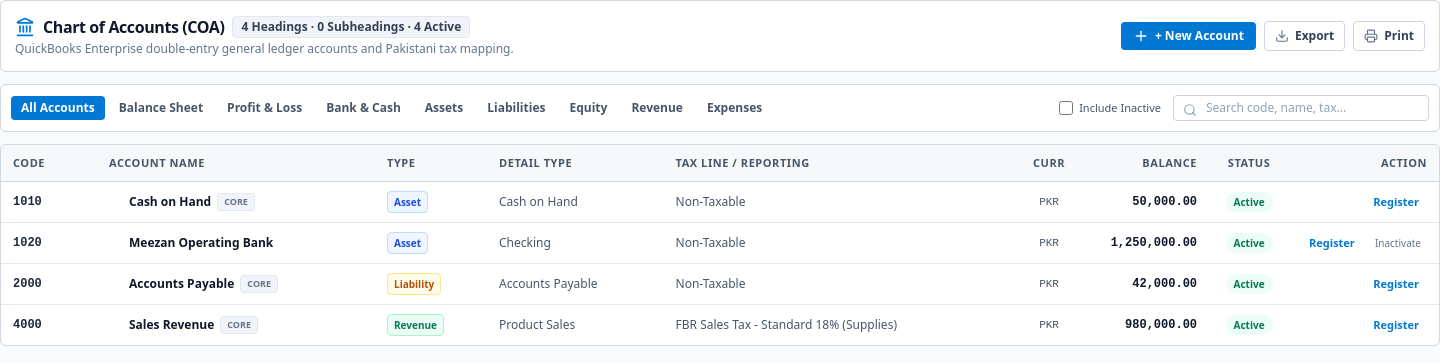
Test: Chart of Accounts Client & Register › filters accounts by category tab (Balance Sheet vs Profit & Loss)
Click the button "Profit & Loss" at [265, 108], box 217,96 -> 312,120
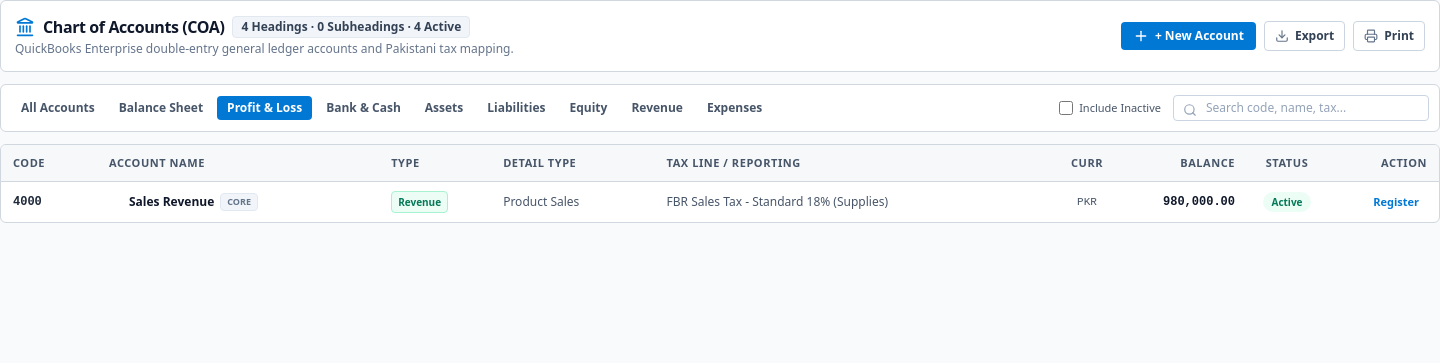
expect the text "Sales Revenue" is shown: met, box 129,194 -> 214,210
expect the text "Meezan Operating Bank" is gone: met
